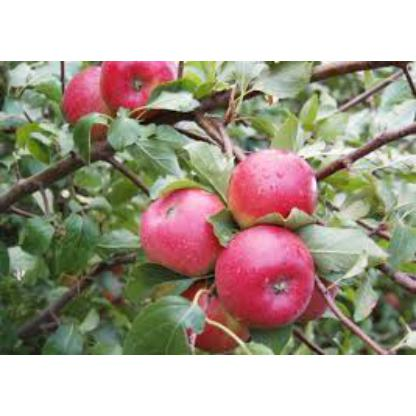apple: (228, 226, 307, 320), (236, 144, 318, 220), (146, 187, 220, 271), (178, 288, 248, 346), (104, 61, 172, 101), (67, 63, 107, 125), (317, 278, 337, 326), (382, 289, 402, 321)
